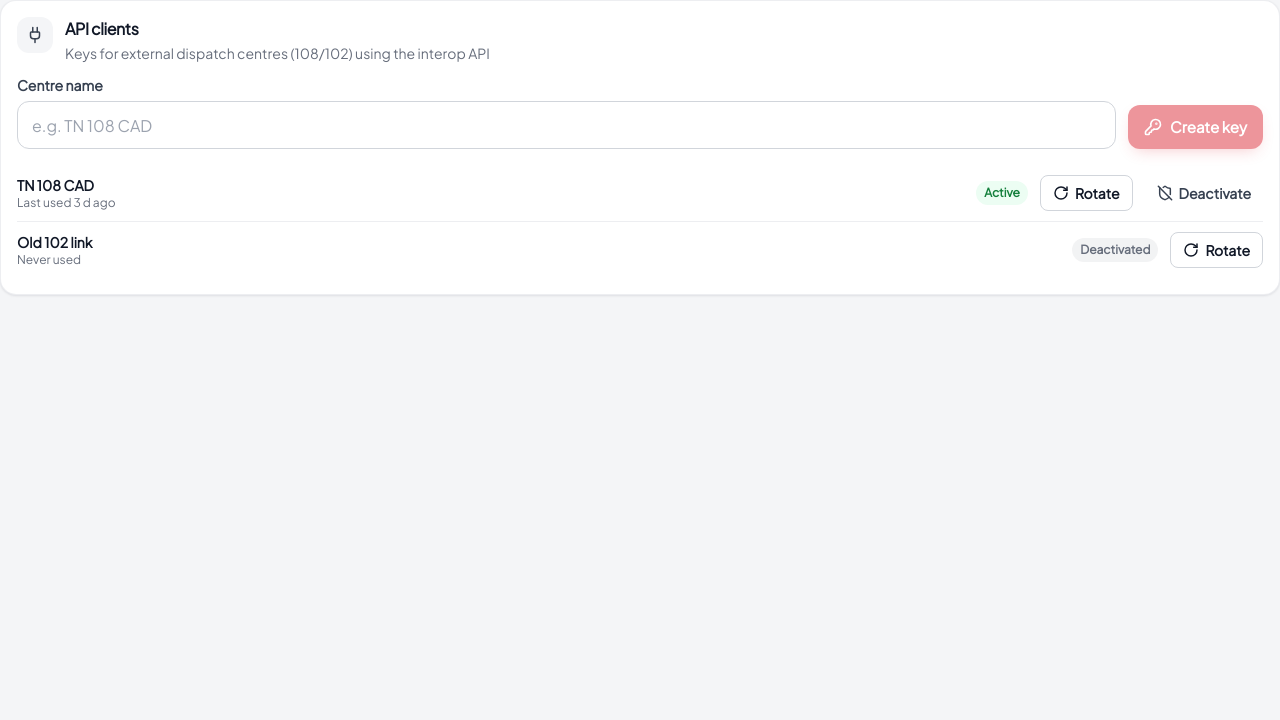
it: <ApiClientsCard> (NFR8: keys for 108/102 centres) › creates a client and shows its key exactly once
This screenshot has width=1280, height=720.
Expected: the text "TN 108 CAD" is shown, [17,176,94,194]
Type "Chennai 102" into the field labelled "Centre name". click: (567, 125)
box: [17,101,1116,149]
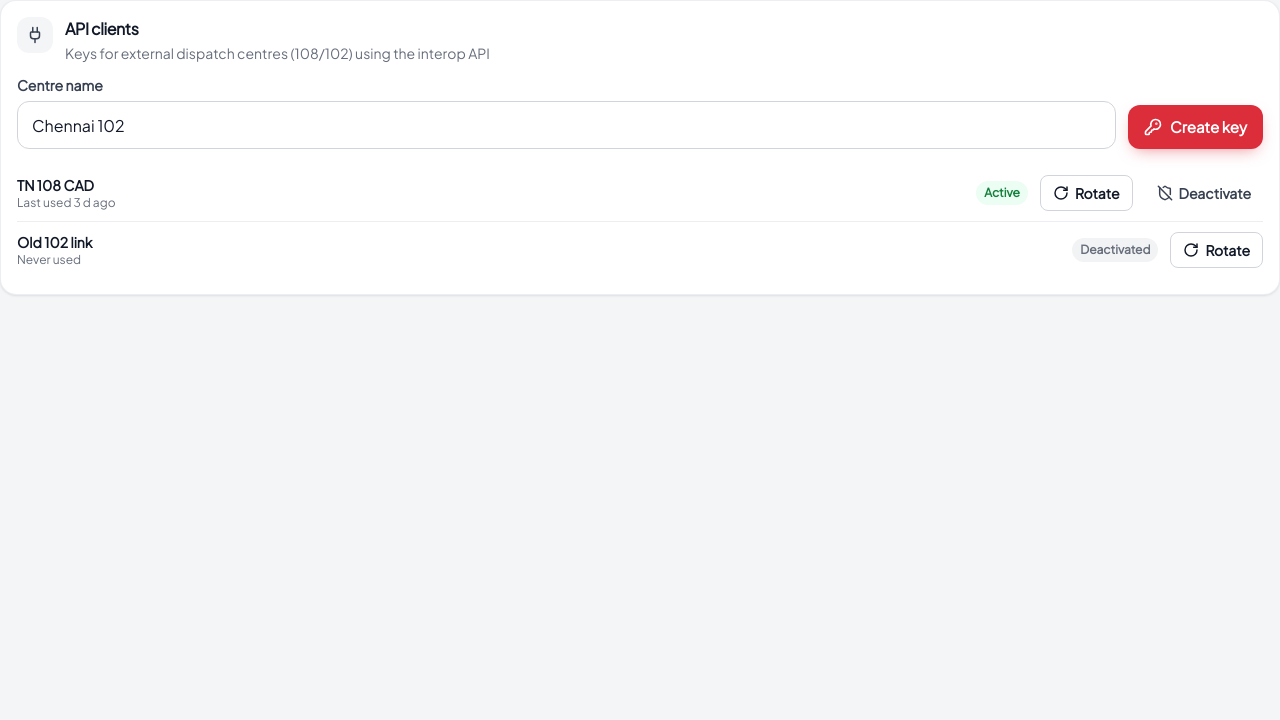
Click the button "Create key". click: (1196, 127)
box: [1128,105,1263,149]
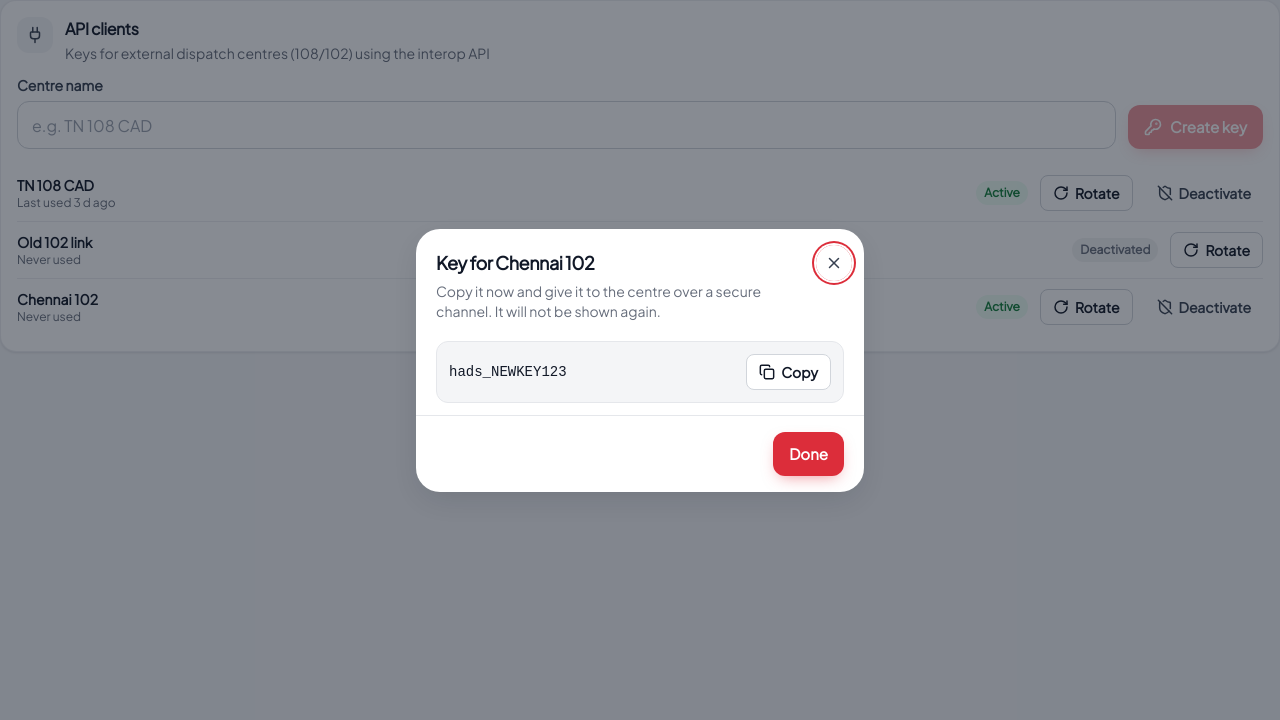
Expected: the text "hads_NEWKEY123" is shown, [449,364,567,380]
Expected: the text "will not be shown again" is shown, [436,282,761,320]
Click the button "Done". click: (809, 454)
box: [773,432,844,476]
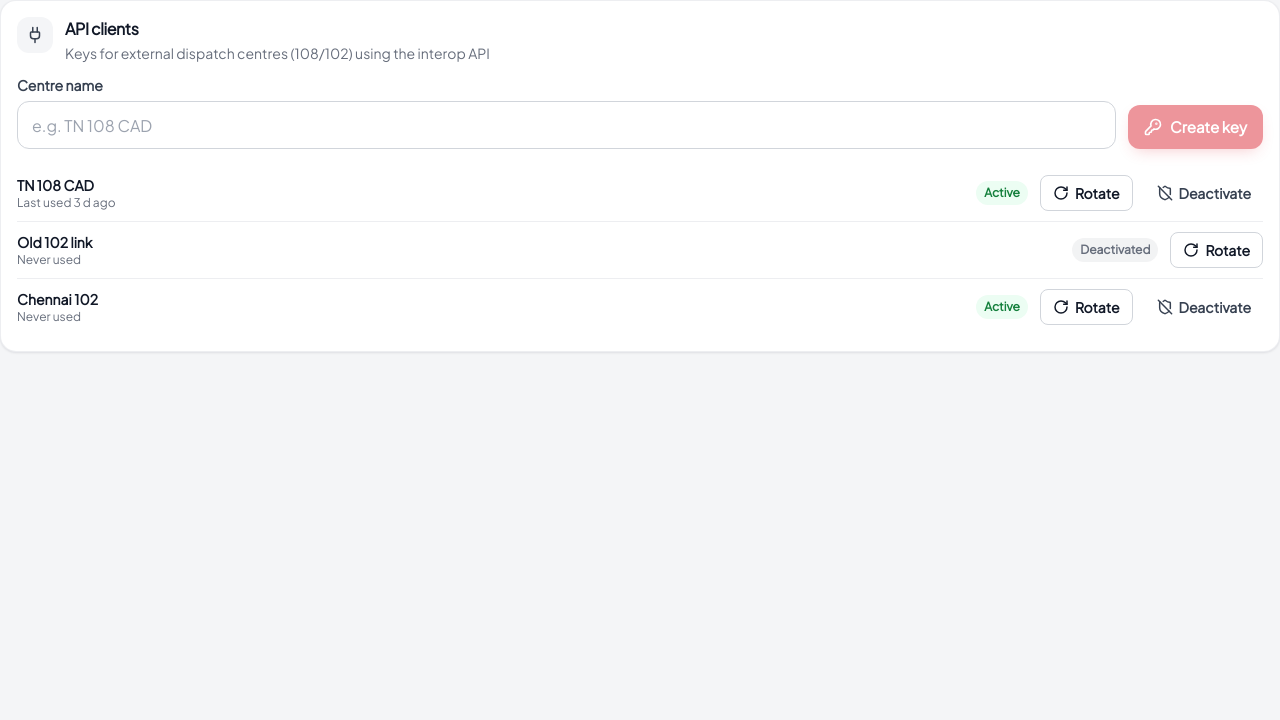
Expected: the text "hads_NEWKEY123" is gone
